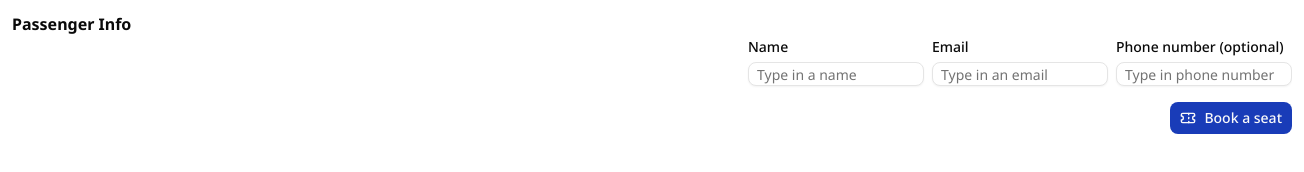
it: CreateBookingForm › should show loading indicator when form submission is in progress
Fill out the form
Type "John Doe" into the field with placeholder "Type in a name".
click(836, 74); type("John Doe")  # box 748,62 -> 924,86
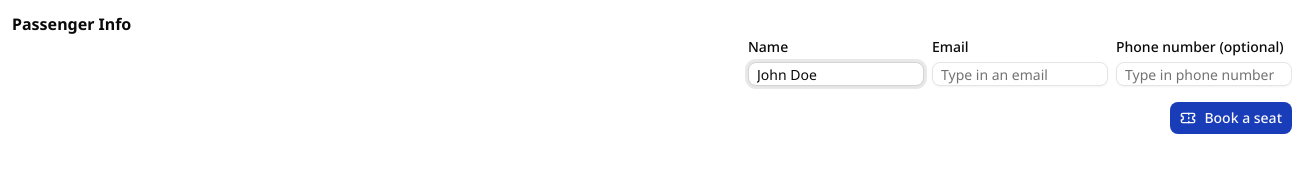
Type "john@example.com" into the field with placeholder "Type in an email".
click(1020, 74); type("john@example.com")  # box 932,62 -> 1108,86
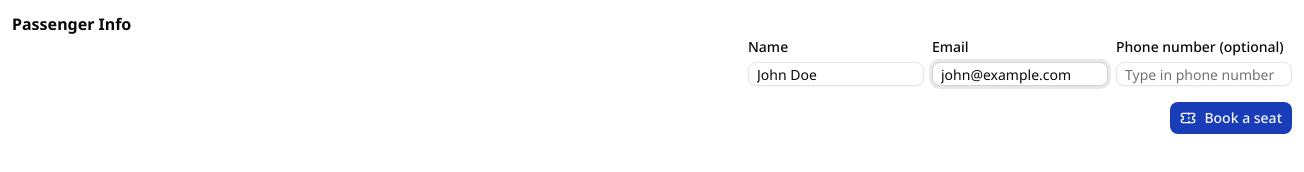
Type "1234567890" into the field with placeholder "Type in phone number".
click(1204, 74); type("1234567890")  # box 1116,62 -> 1292,86
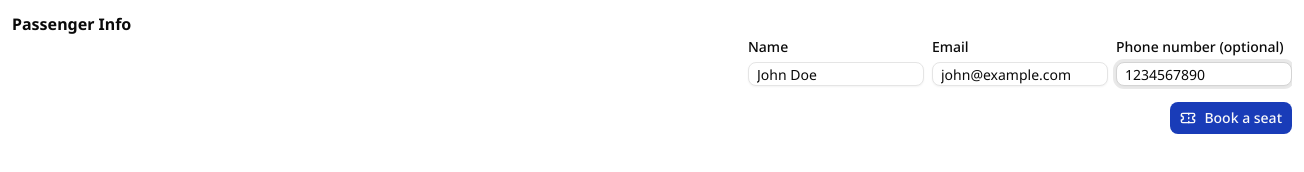
Submit the form
Click the button "Book a seat".
click(1231, 118)  # box 1170,102 -> 1292,134
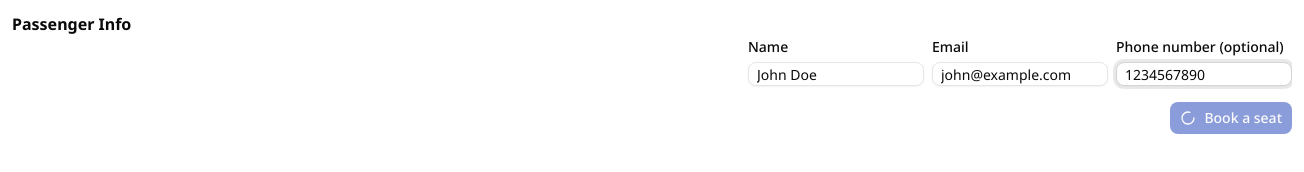
Expected: the icon with test id "loader-icon" is shown, 1180,110 -> 1196,126
